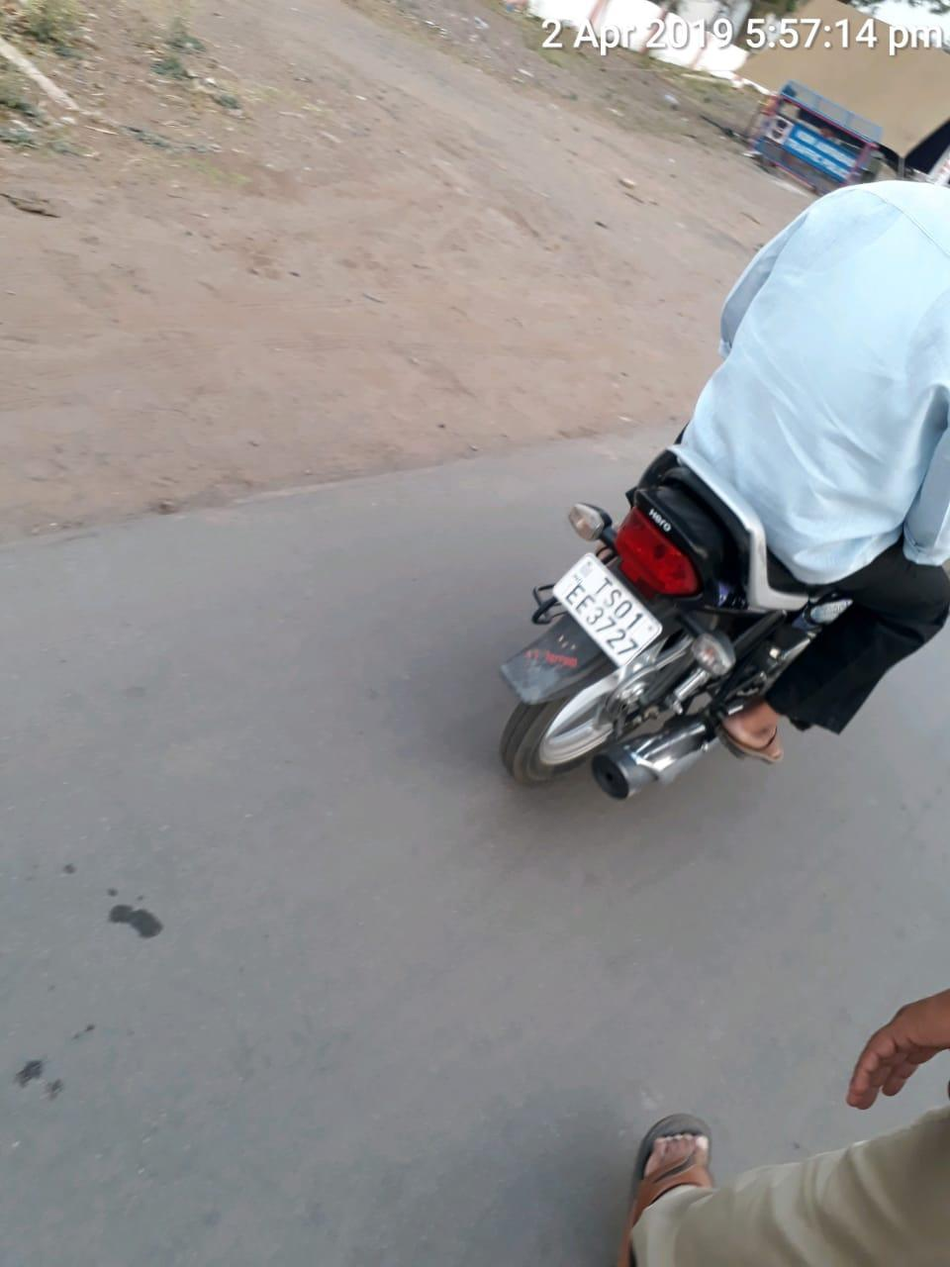plate: (540, 551, 667, 678)
